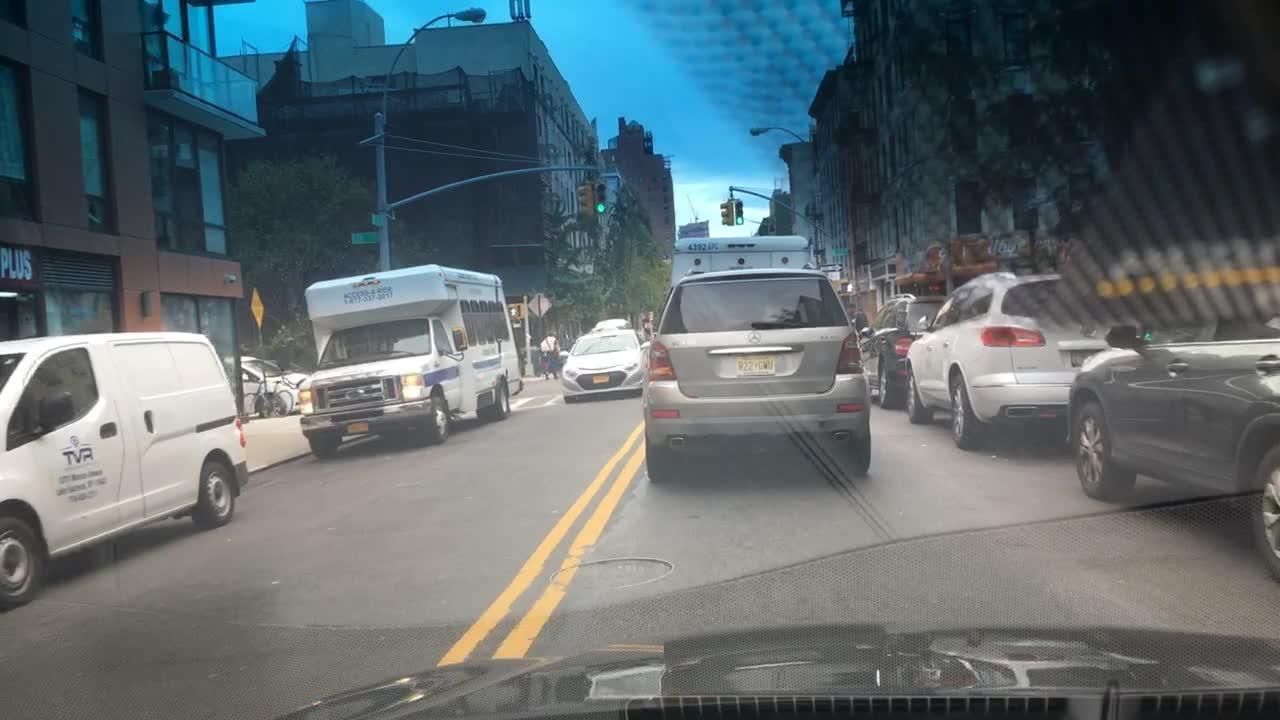Mercedes: (745, 328, 764, 347)
